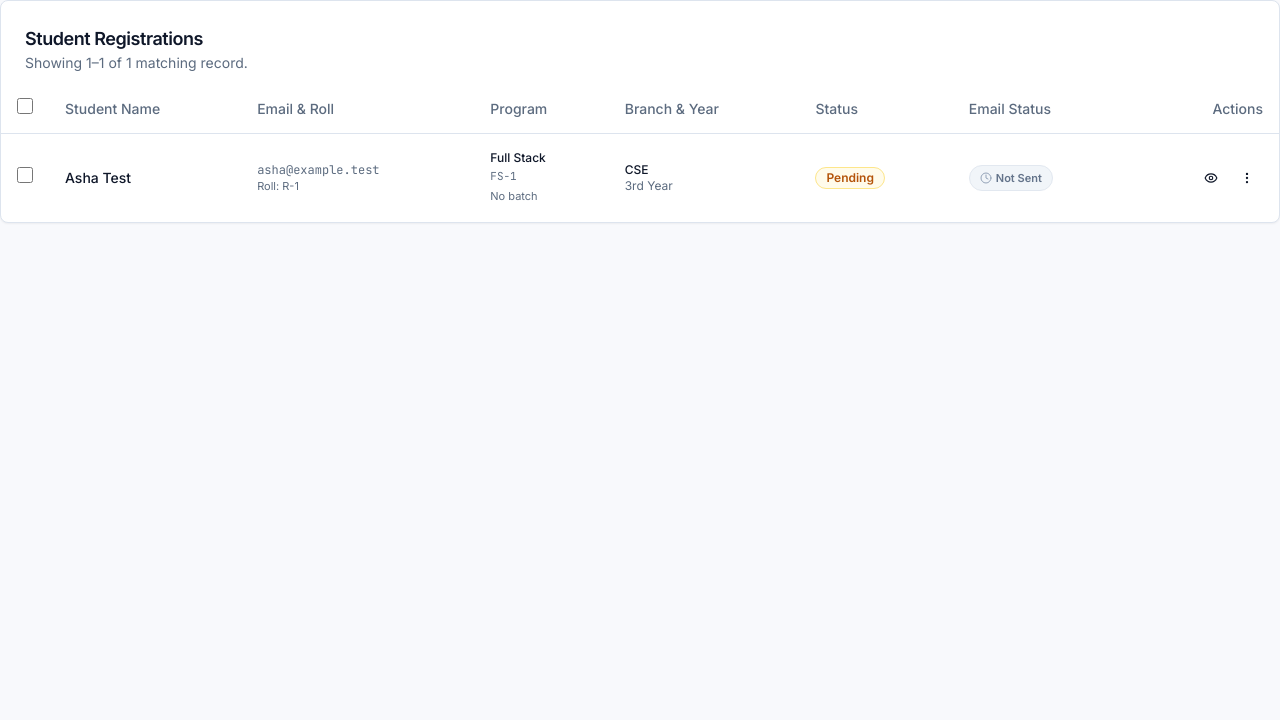
Test: Enrollments: single Resend Email asks first › cancelling an enrollment is destructive: focus starts on "Keep enrollment"
// Opened from the row's actions menu: the dialog must take over cleanly after the menu closes.
Click the button named "Actions for Asha Test" at (1247, 178), box [1231,162,1263,194]
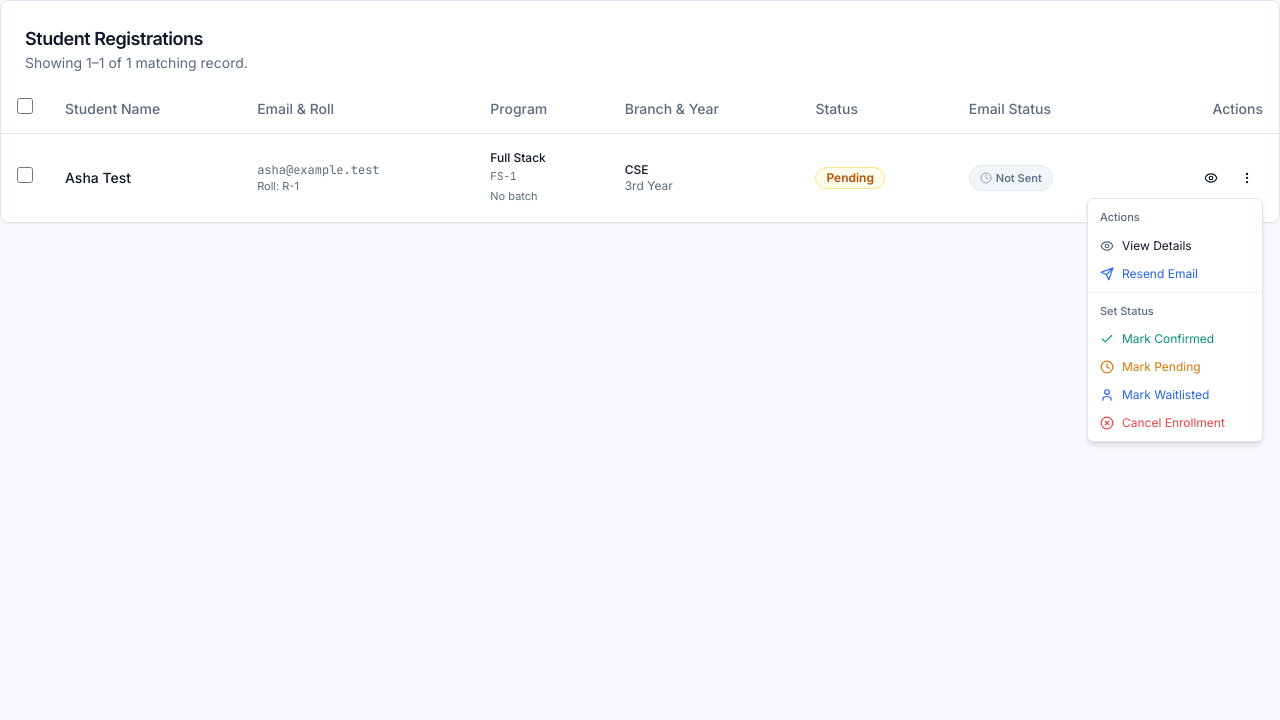
Click the menu item "Cancel Enrollment" at (1162, 422), box [1100,415,1225,430]
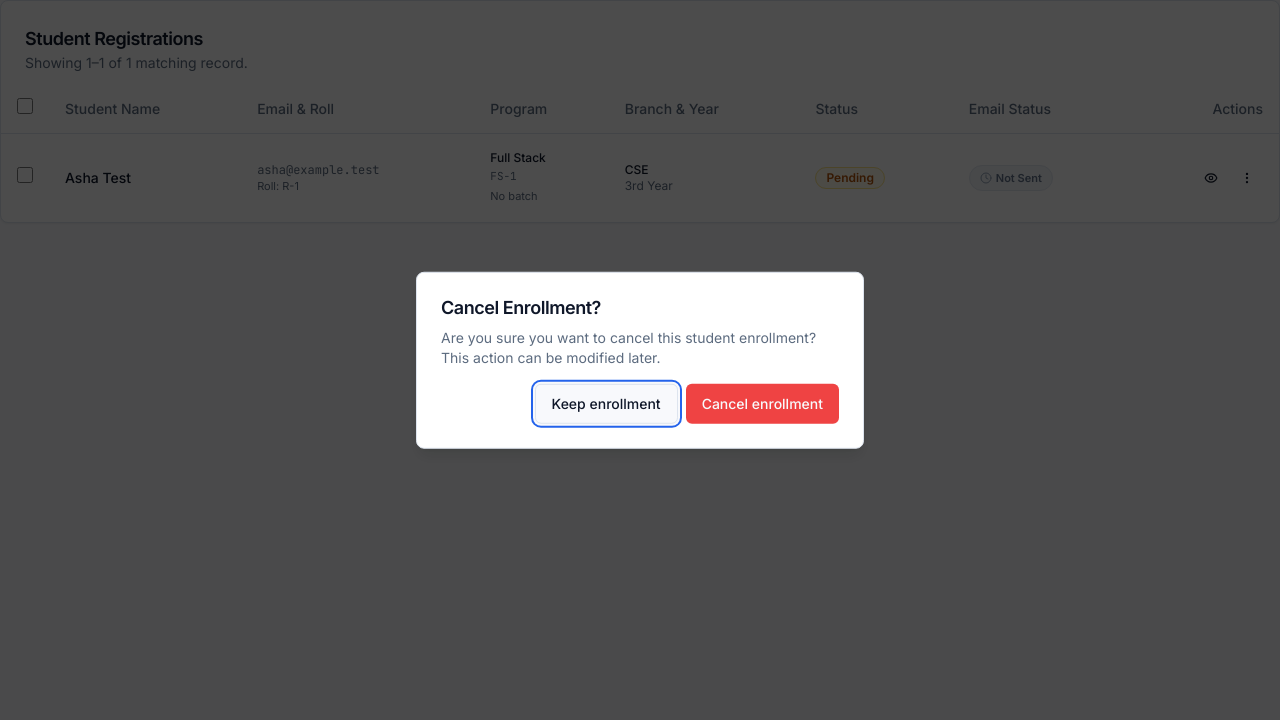
expect the dialog is shown: met, box [416,272,864,448]
expect the heading "Cancel Enrollment?" is shown: met, box [441,297,601,318]
Click the button "Cancel enrollment" at (762, 403), box [686,383,839,423]
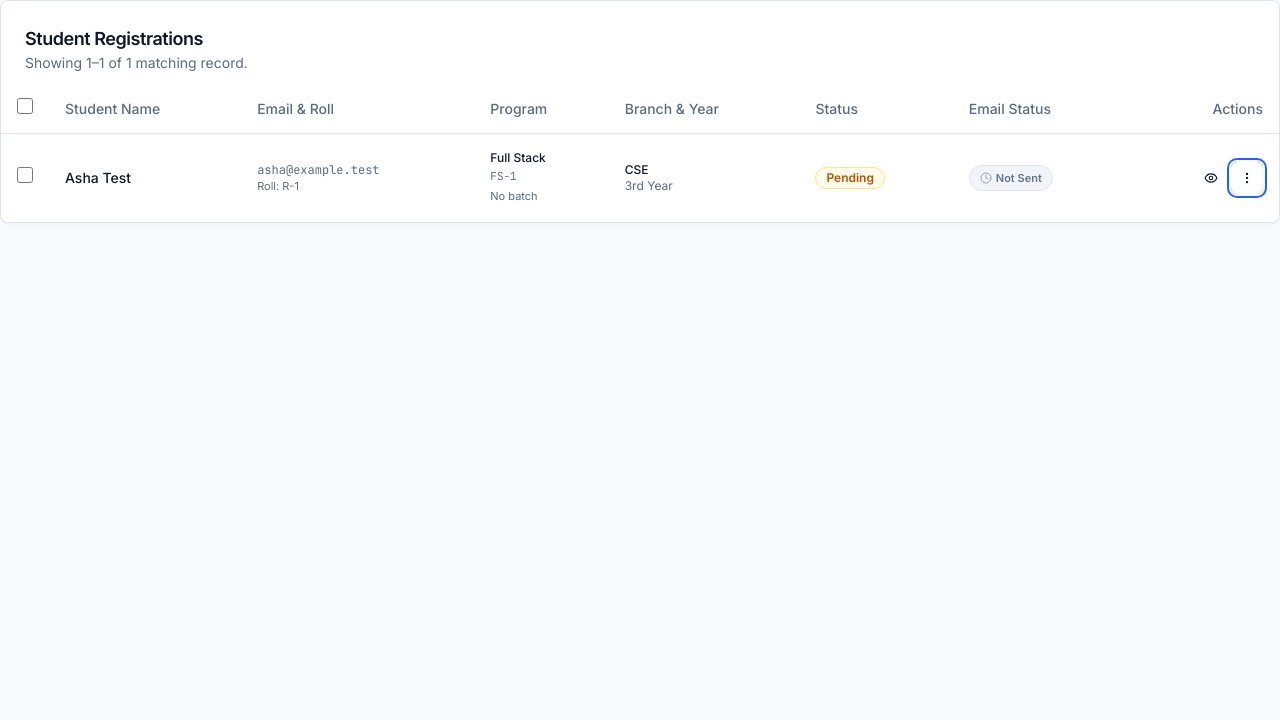
expect the dialog is gone: met
